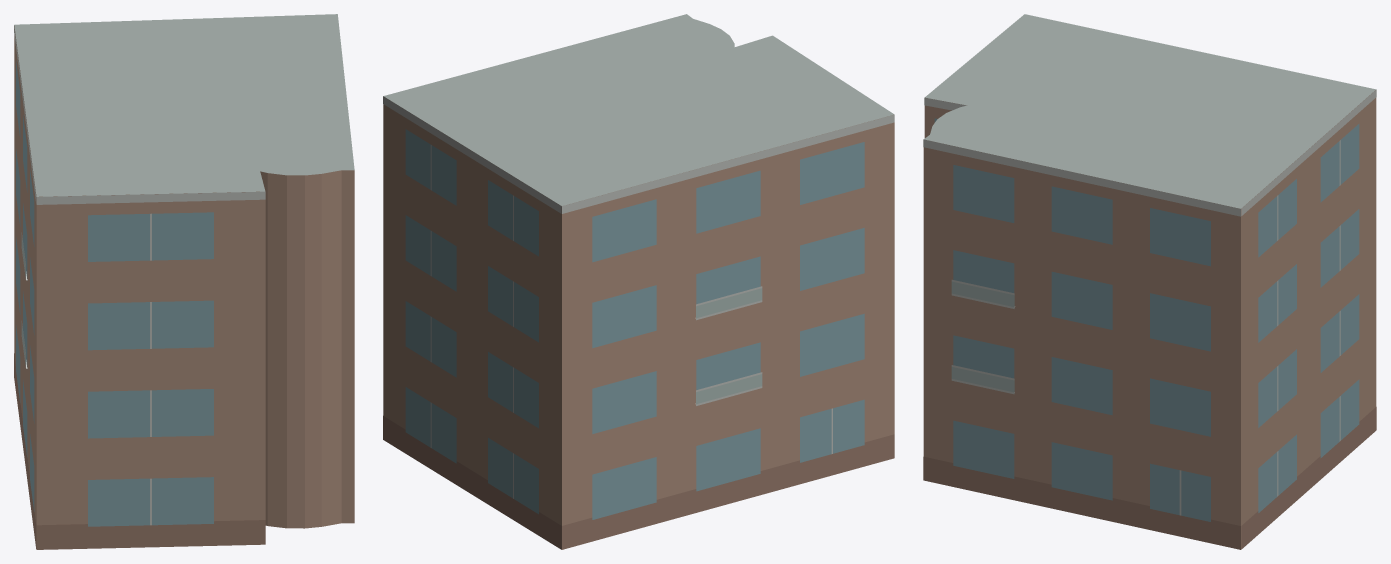
The model's file is survey-upis-33038457.glb.
3 renders of one model, left to right at view 1: azimuth 30°, elevation 25°; view 2: azimuth 150°, elevation 25°; view 3: azimuth 270°, elevation 25°, orthographic. The views are drawn at different scales.
Parts seen in each view (by area): view 1: survey-upis-33038457.tmp; view 2: survey-upis-33038457.tmp; view 3: survey-upis-33038457.tmp.
Boxes of the visible parts, bbox=[...] form: survey-upis-33038457.tmp: bbox=[14, 14, 354, 549]; survey-upis-33038457.tmp: bbox=[383, 14, 894, 549]; survey-upis-33038457.tmp: bbox=[923, 14, 1376, 549].
Bounding box in the file's own units: 13 × 10.6 × 12.76.
